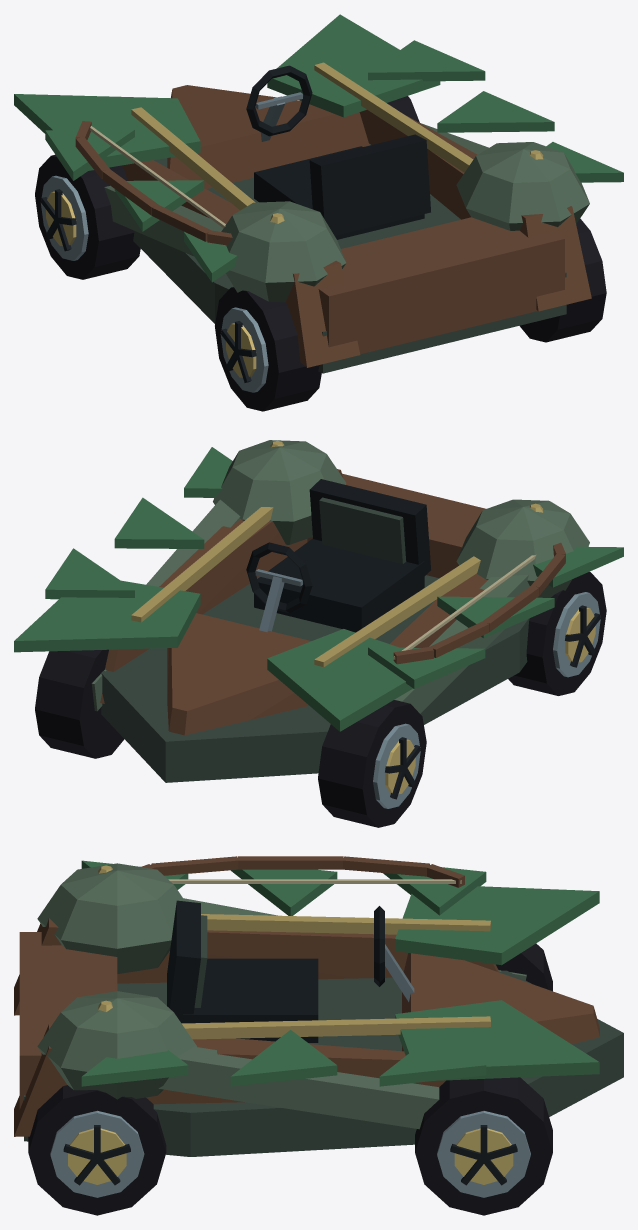
Rendered from kart.glb.
The picture shows the model from 3 angles, top to bottom: view 1: azimuth 30°, elevation 25°; view 2: azimuth 150°, elevation 25°; view 3: azimuth 270°, elevation 25°; orthographic projection. The views are drawn at different scales.
Parts seen in each view (by area): view 1: identity-nature-nature-root-cradle-and-leaf-bow, identity-nature-driver-cockpit, identity-nature-motif-leaves, wheel-rear-left, wheel-front-left, identity-nature-motif-bow, wheel-rear-right; view 2: identity-nature-nature-root-cradle-and-leaf-bow, identity-nature-driver-cockpit, identity-nature-motif-leaves, wheel-front-left, wheel-rear-left, wheel-front-right, identity-nature-motif-bow; view 3: identity-nature-nature-root-cradle-and-leaf-bow, wheel-front-right, identity-nature-motif-leaves, wheel-rear-right, identity-nature-driver-cockpit, identity-nature-motif-bow, wheel-front-left.
Part boxes in pixels (x1,y1,x2,y2): identity-nature-nature-root-cradle-and-leaf-bow: (14, 14, 591, 373); identity-nature-driver-cockpit: (246, 65, 430, 239); identity-nature-motif-leaves: (45, 40, 623, 282); wheel-rear-left: (215, 287, 321, 411); wheel-front-left: (35, 154, 140, 279); identity-nature-motif-bow: (75, 121, 232, 245); wheel-rear-right: (519, 218, 606, 342); identity-nature-nature-root-cradle-and-leaf-bow: (14, 440, 589, 782); identity-nature-driver-cockpit: (246, 479, 430, 632); identity-nature-motif-leaves: (45, 447, 623, 688); wheel-front-left: (318, 700, 426, 827); wheel-rear-left: (508, 572, 606, 695); wheel-front-right: (35, 649, 124, 758); identity-nature-motif-bow: (393, 542, 565, 664); identity-nature-nature-root-cradle-and-leaf-bow: (14, 863, 623, 1156); wheel-front-right: (415, 1077, 552, 1215); identity-nature-motif-leaves: (81, 860, 486, 1086); wheel-rear-right: (28, 1085, 166, 1215); identity-nature-driver-cockpit: (167, 900, 414, 1042); identity-nature-motif-bow: (141, 856, 464, 887); wheel-front-left: (496, 943, 552, 991).
Size of the model in its own units: 2.3 by 1.09 by 2.75.
